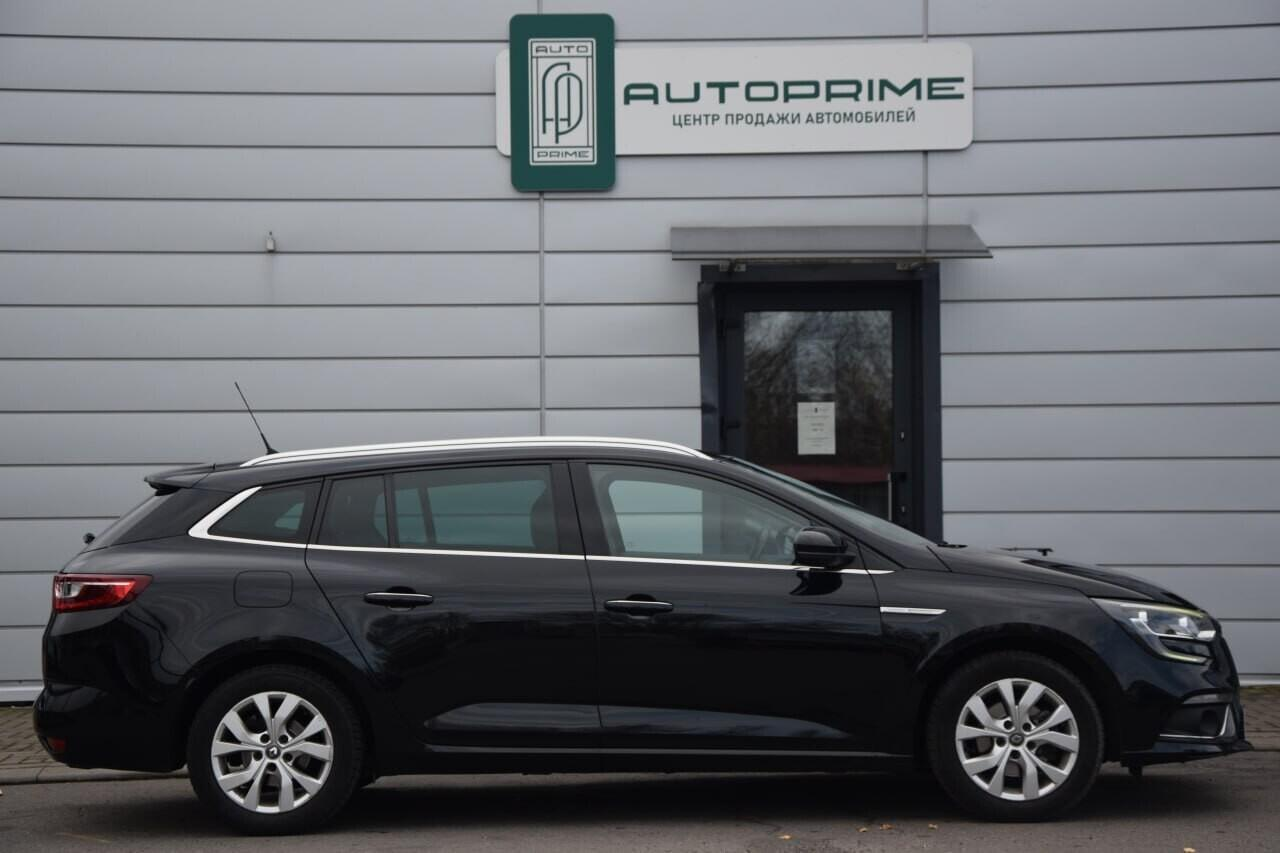Megane_2016-2020: (29, 437, 1260, 812)
